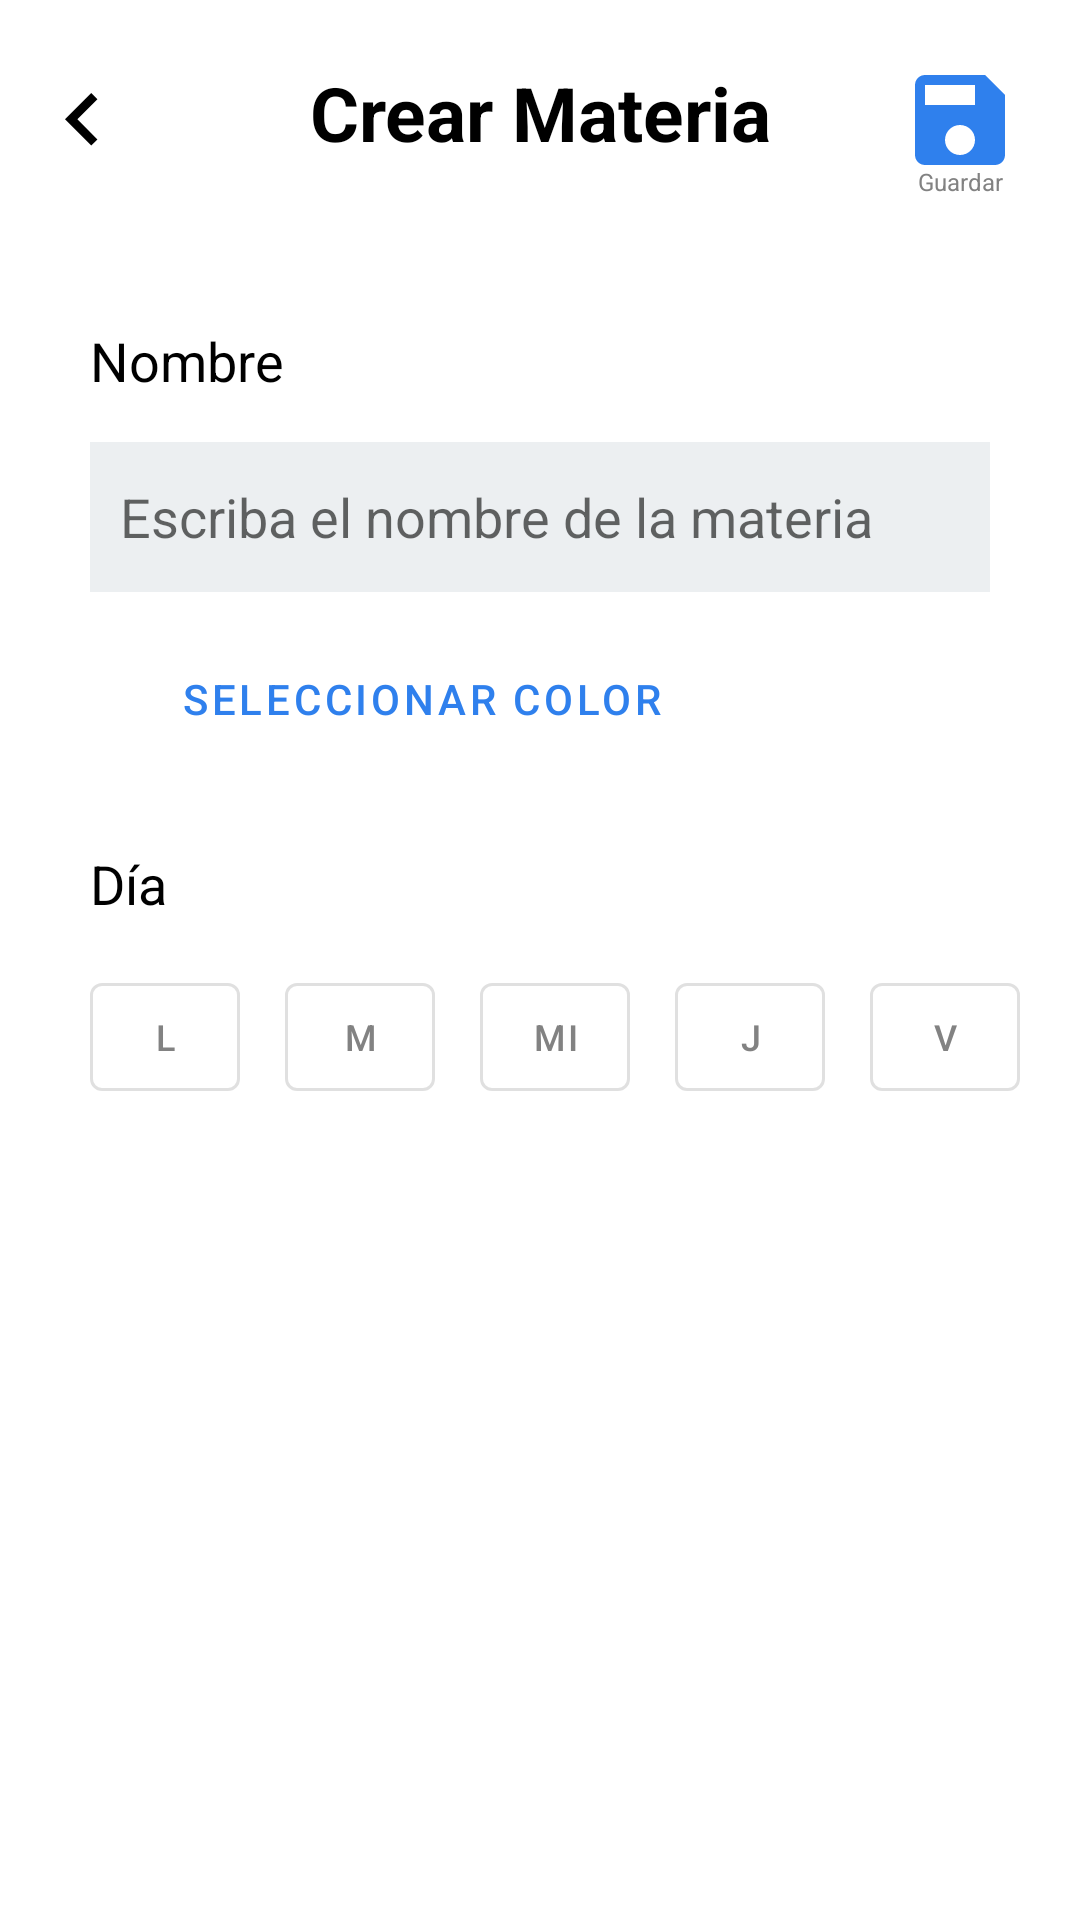

Named icons in this screenshot (1080 x 1920) and their centers, (x=x, y=y):
Left Arrow: (x=81, y=119)
